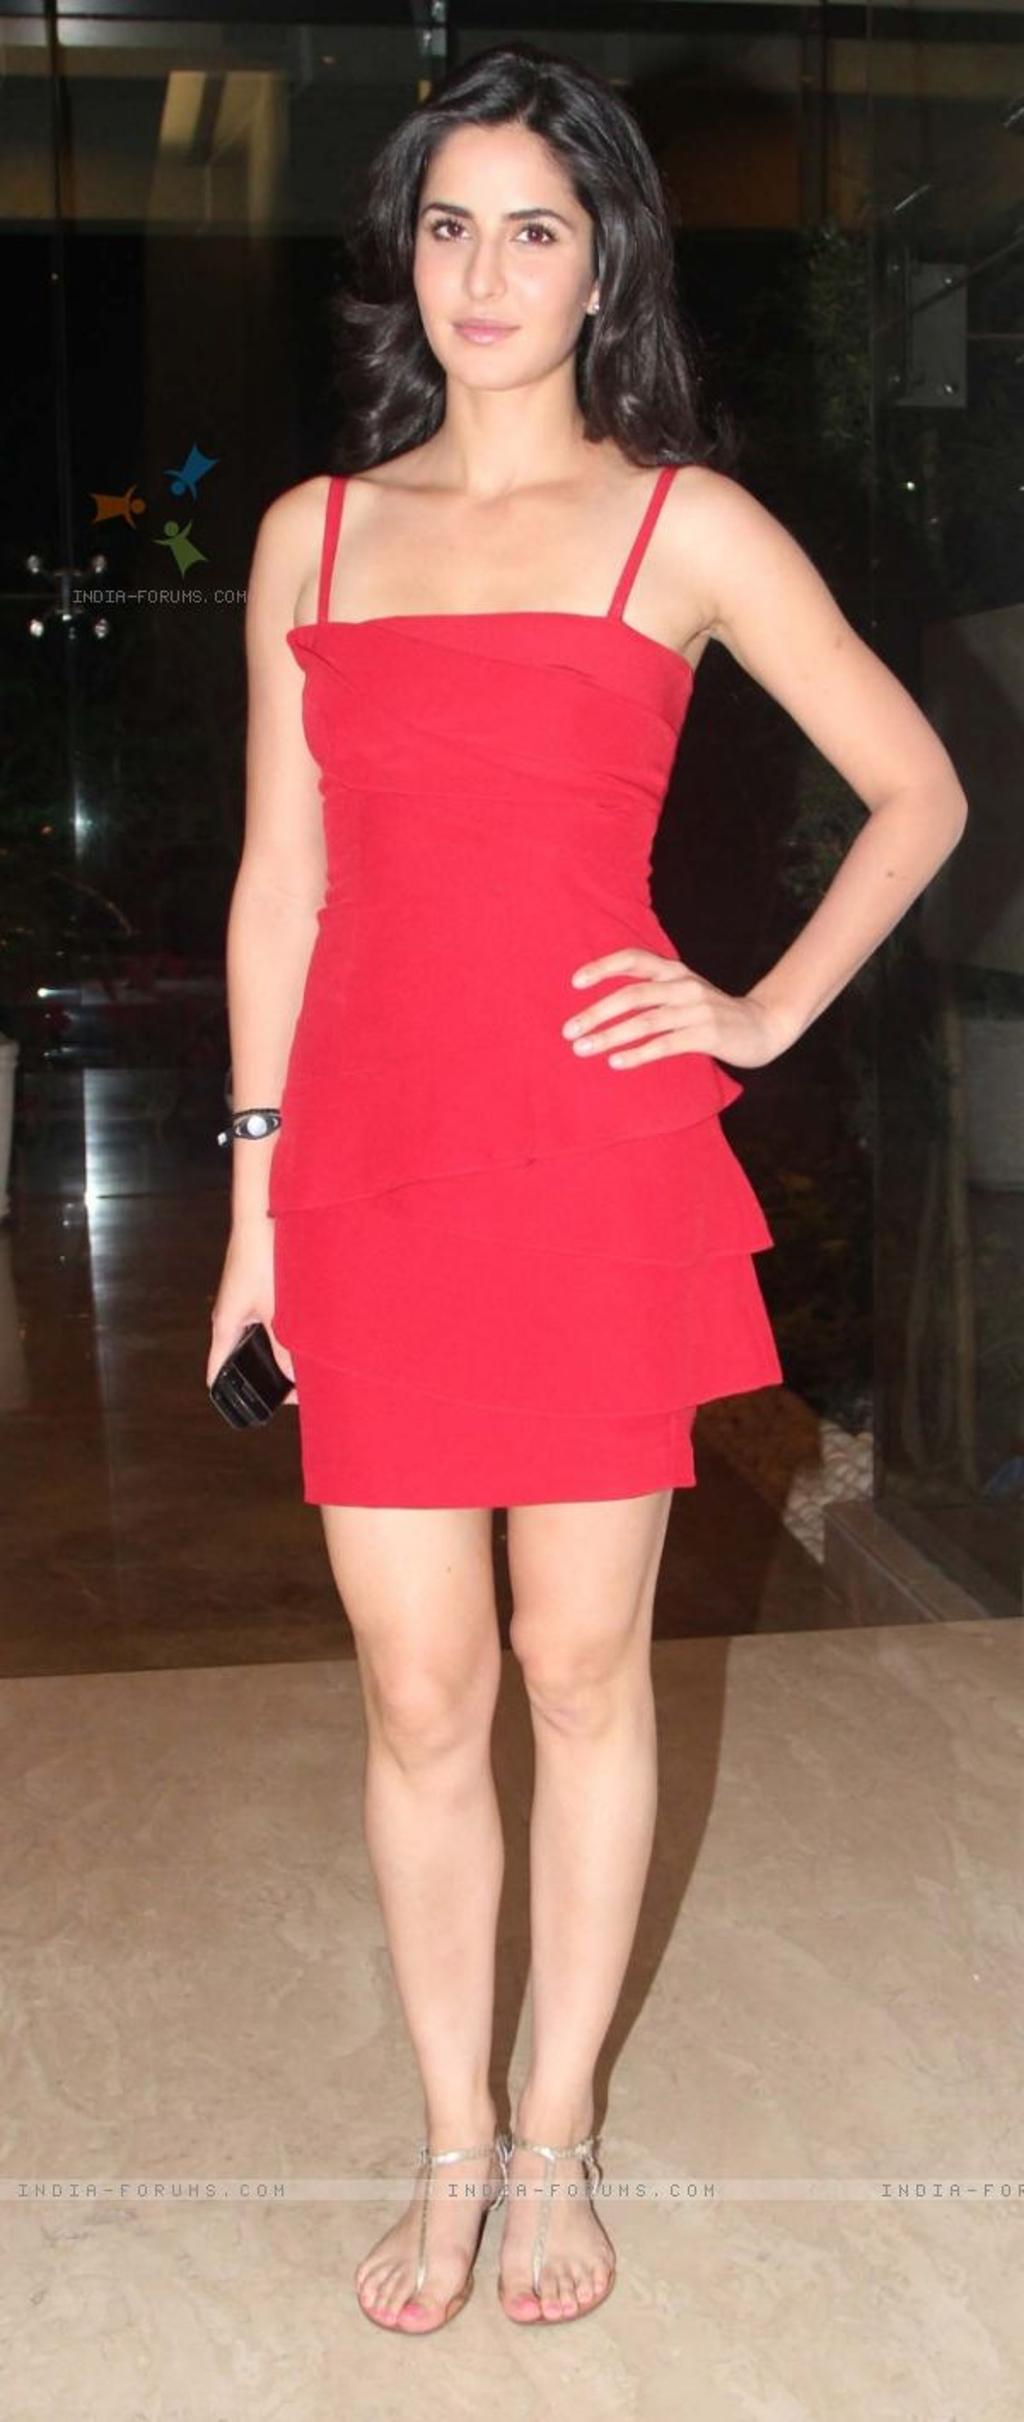face: (413, 134, 588, 395)
